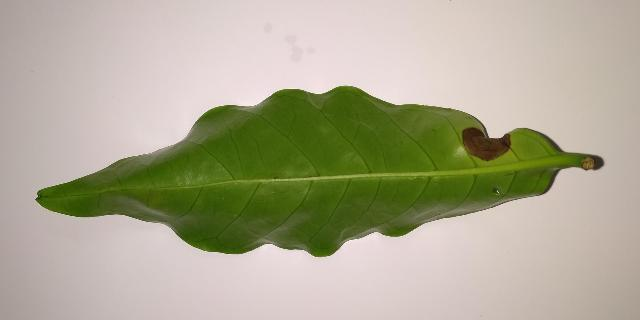rust: (462, 128, 511, 160)
